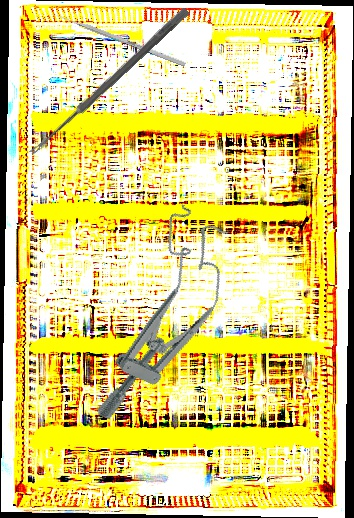Pusher: (48, 10, 187, 67)
Speculum: (81, 202, 249, 440)
Surgical Spoon: (28, 6, 190, 158)
